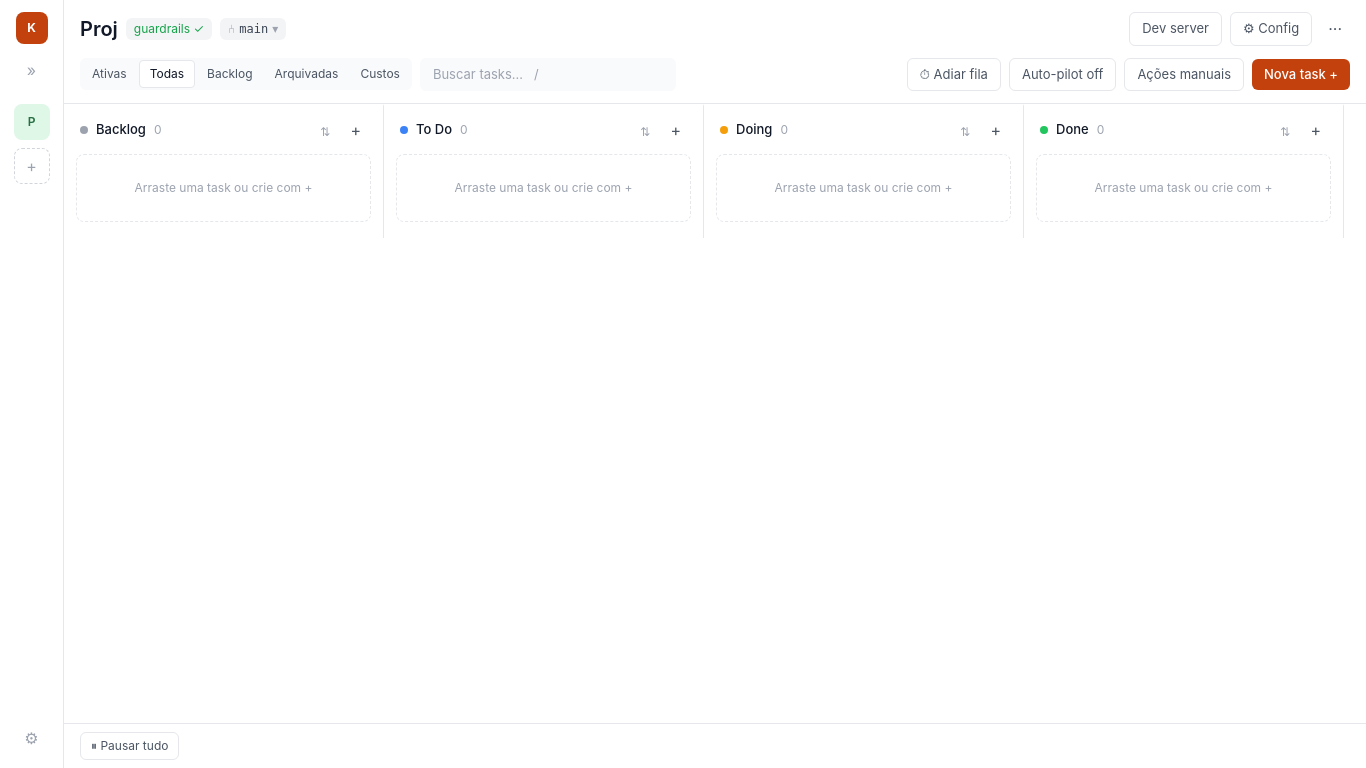
it: catálogo de modelos › carrega o catálogo do servidor no boot
What coordinates should you click on to do the following:
click the button titled "Configurações globais (valem para todos os projetos)"
I would click on:
 (31, 738)
Its box is left=18, top=720, right=45, bottom=756.
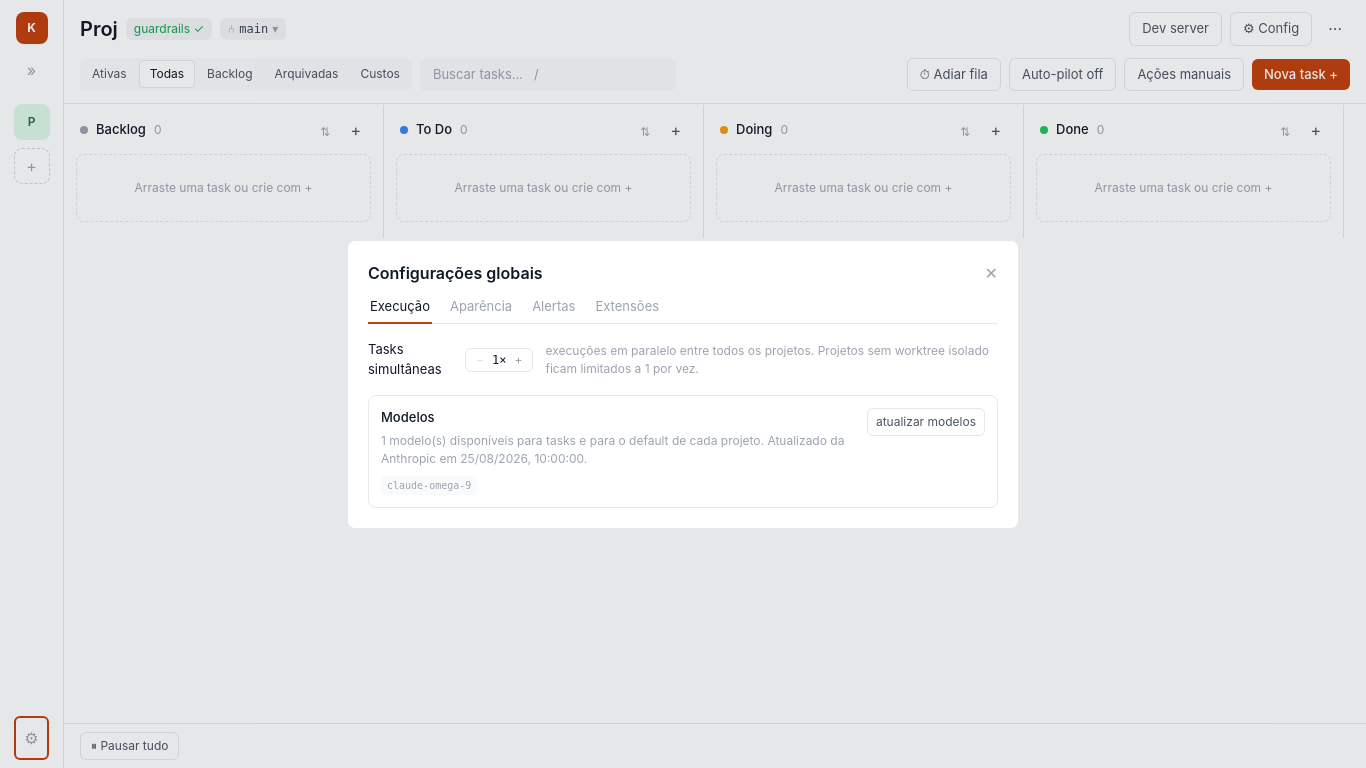
Expected: the text "Modelos" is shown, left=381, top=409, right=434, bottom=425
Expected: the text "claude-omega-9" is shown, left=381, top=476, right=477, bottom=494
